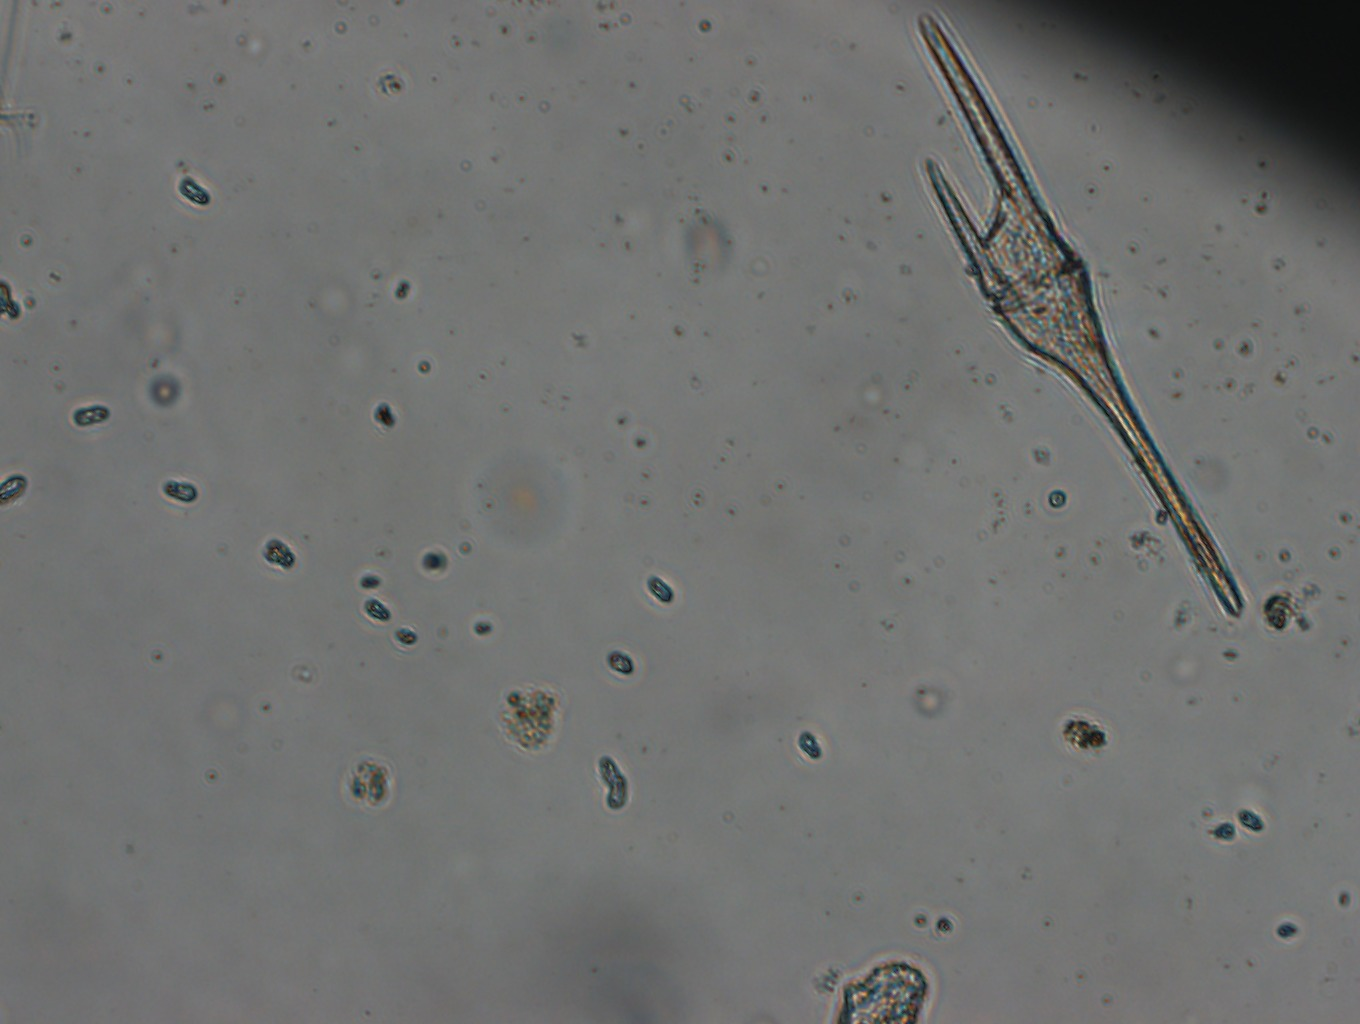ceratium furca: (907, 1, 1243, 618)
